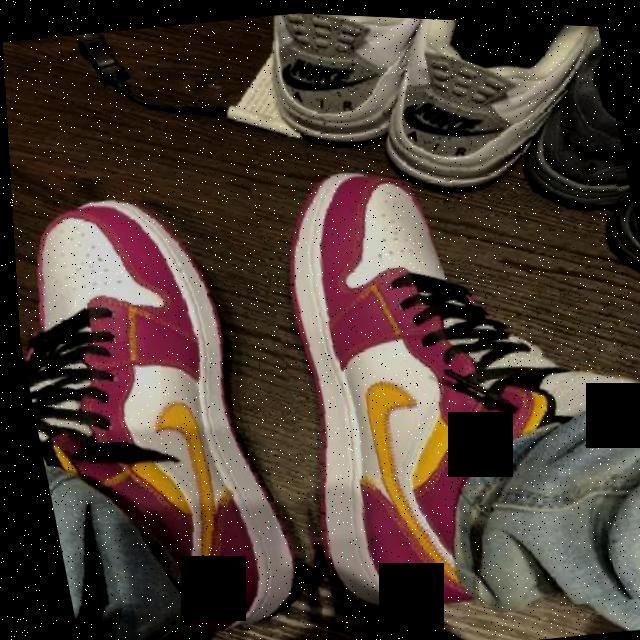shoe: (242, 110, 640, 638), (7, 156, 344, 640)
